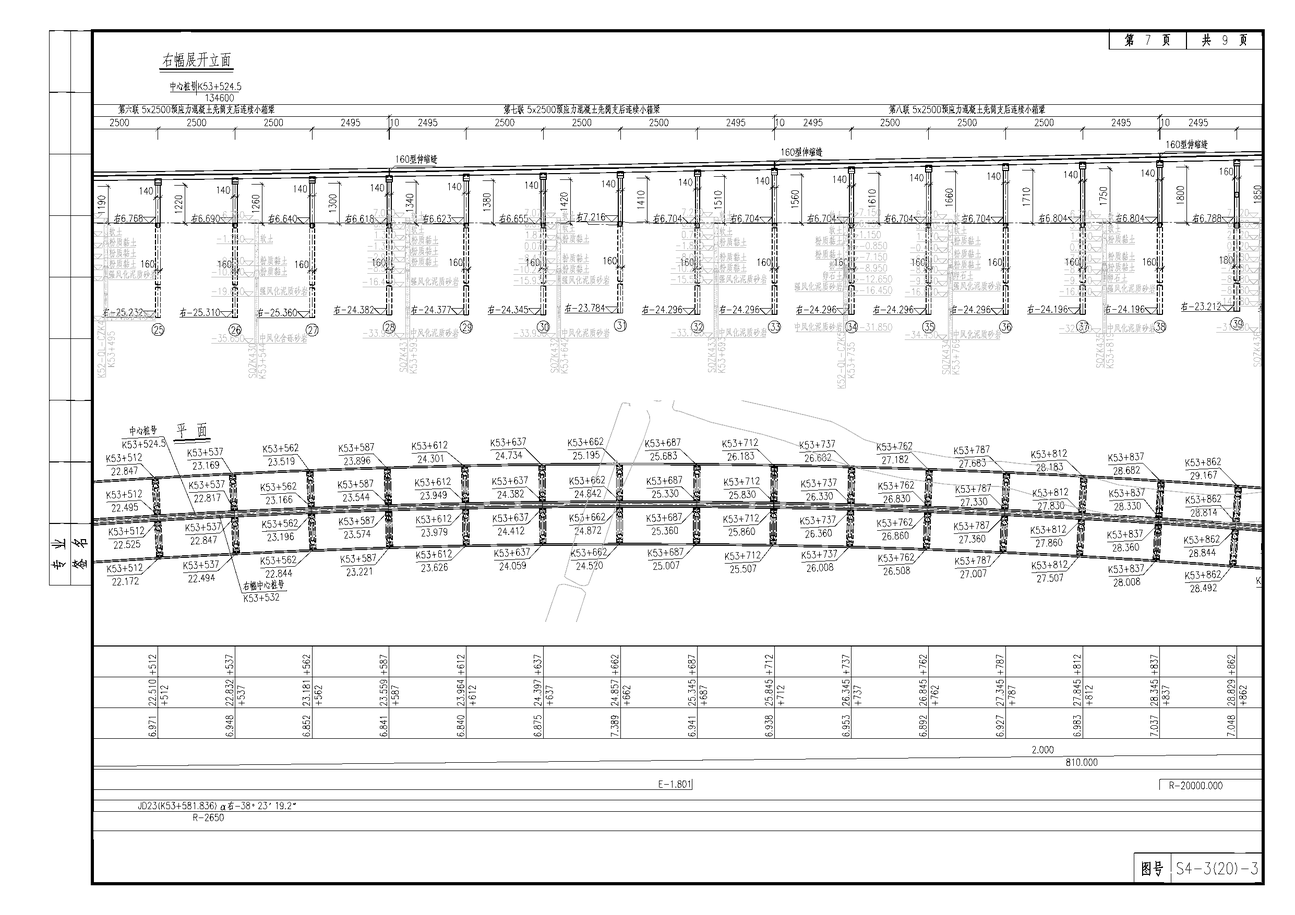A: (88, 51, 1268, 361)
